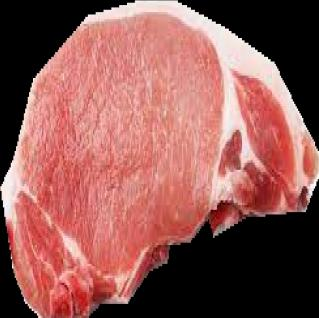pork: (0, 0, 319, 318)
